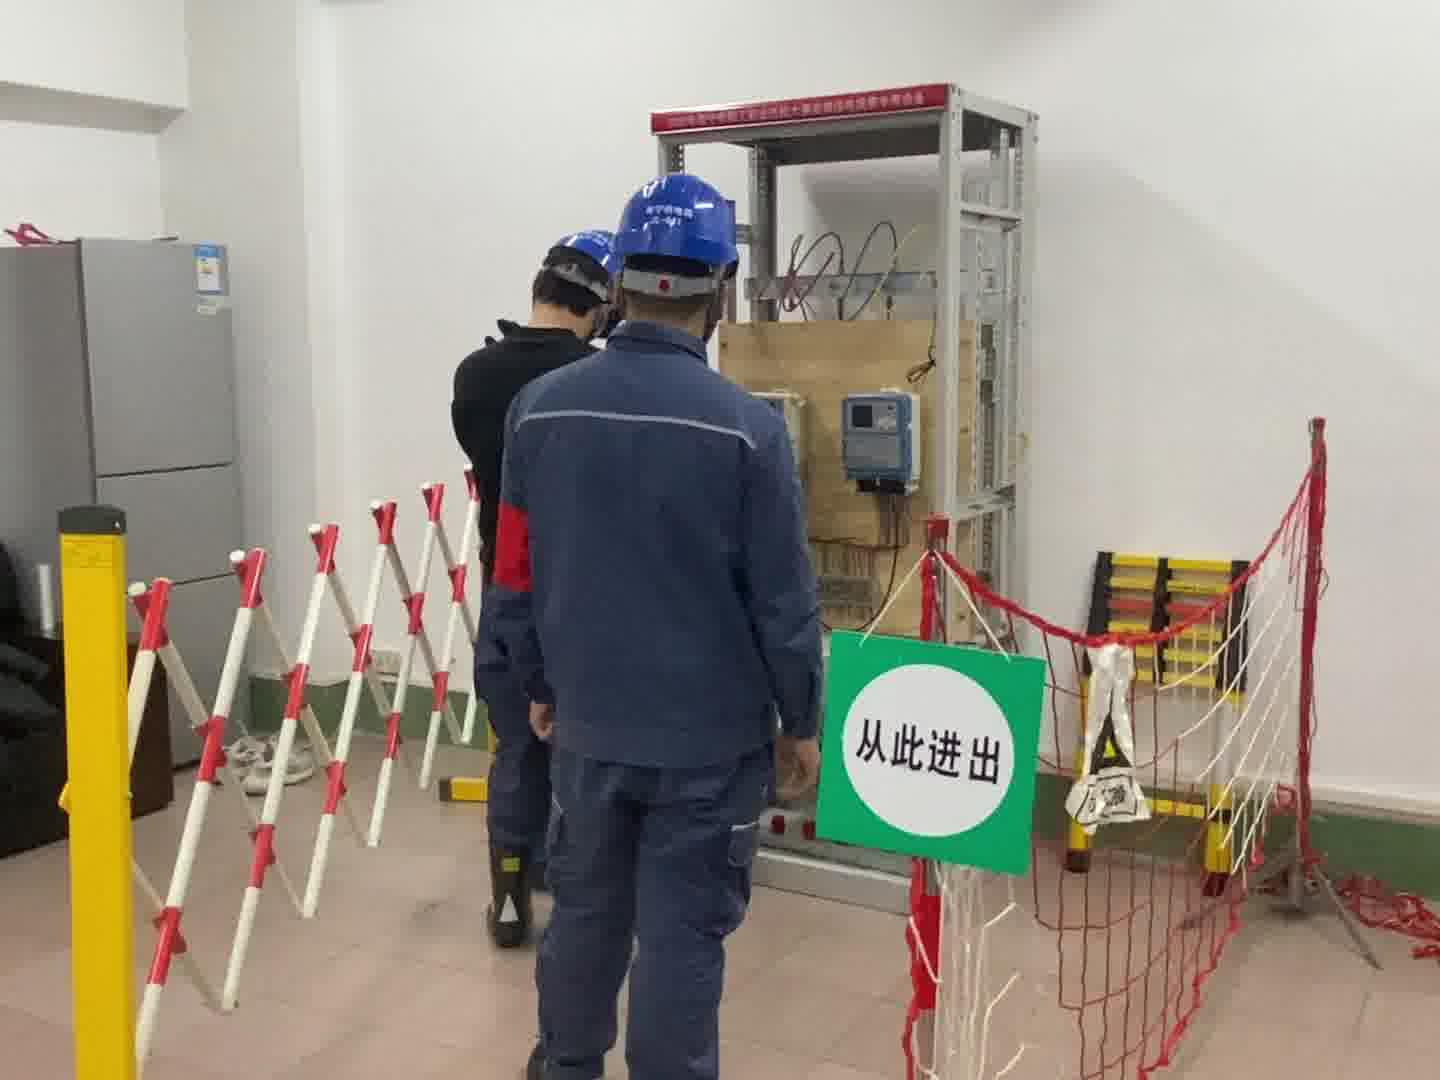badge: (482, 499, 538, 594)
downsuit: (535, 743, 774, 1080), (470, 594, 543, 855)
halt: (608, 172, 746, 348), (523, 231, 623, 343)
hand: (776, 723, 823, 797), (528, 697, 558, 743)
intosign: (817, 624, 1054, 881)
person: (474, 173, 832, 1080), (444, 227, 621, 948)
shoe: (486, 836, 539, 944)
upsuit: (477, 315, 824, 770)
